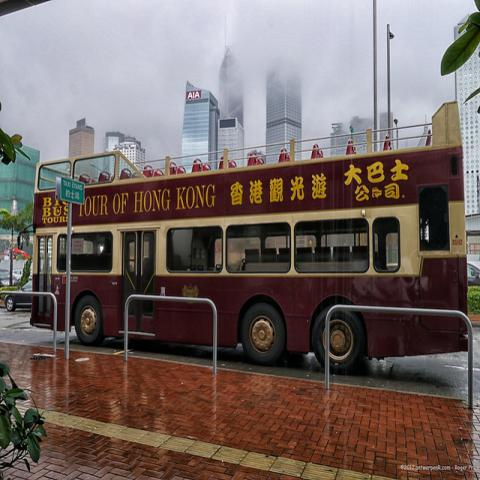car: (0, 284, 34, 314), (0, 269, 21, 288)
